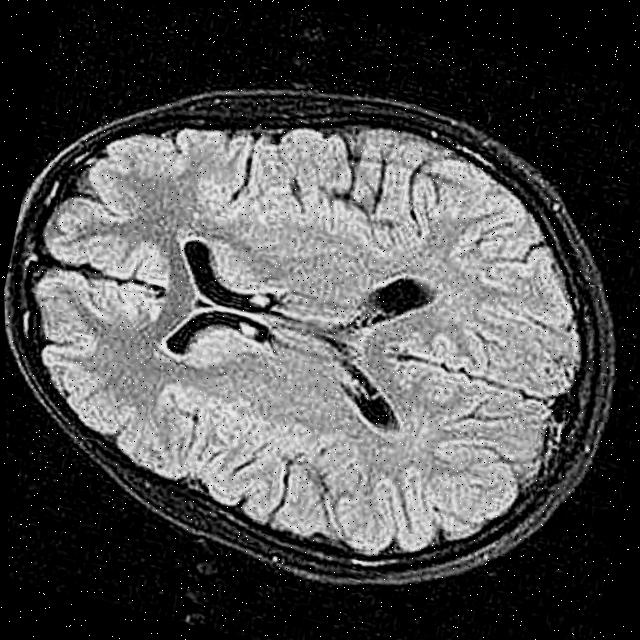NoTumor: (0, 10, 640, 640)
